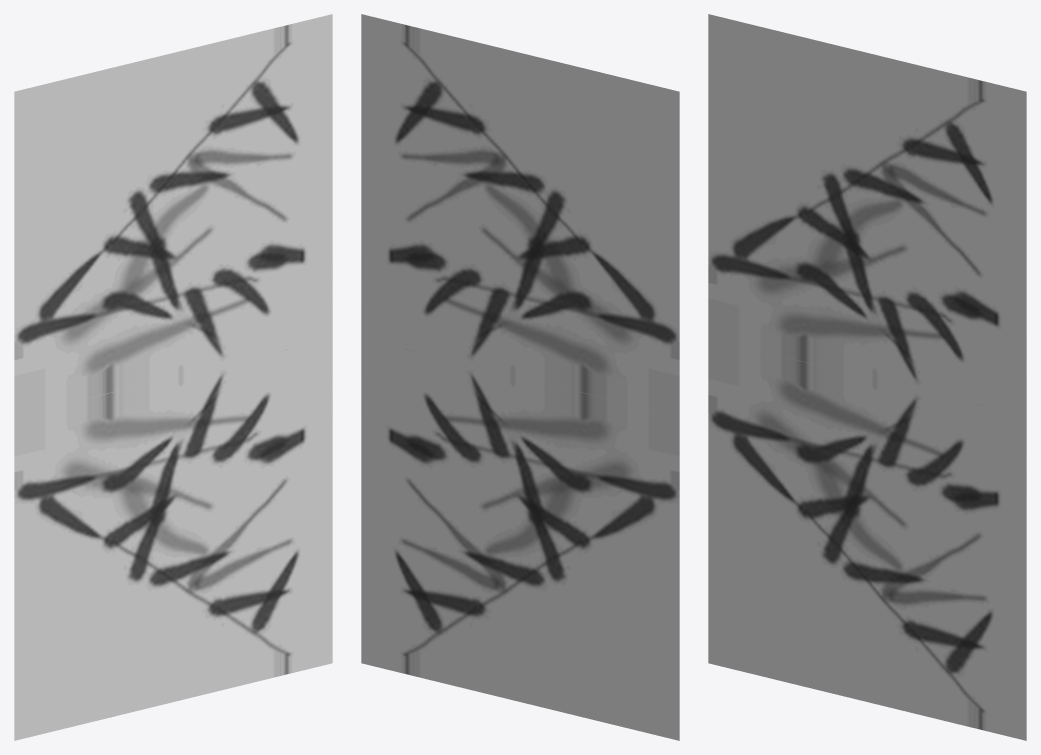
The model's file is PPX_REED15.fbx.
The picture shows the model from 3 angles, left to right: view 1: azimuth 30°, elevation 25°; view 2: azimuth 150°, elevation 25°; view 3: azimuth 330°, elevation 25°; orthographic projection.
Visible parts, largest first — view 1: 图层 2.png, 图层 2.png_2; view 2: 图层 2.png, 图层 2.png_2; view 3: 图层 2.png, 图层 2.png_2.
Part boxes in pixels (box(x1,y1,x2,y2)): 图层 2.png: box(14, 14, 332, 416); 图层 2.png_2: box(14, 338, 332, 740); 图层 2.png: box(361, 14, 679, 416); 图层 2.png_2: box(361, 338, 679, 740); 图层 2.png: box(708, 14, 1026, 416); 图层 2.png_2: box(708, 338, 1026, 740).
Size of the model in its own units: 169 by 0 by 328.
1 material, 1 textured.
